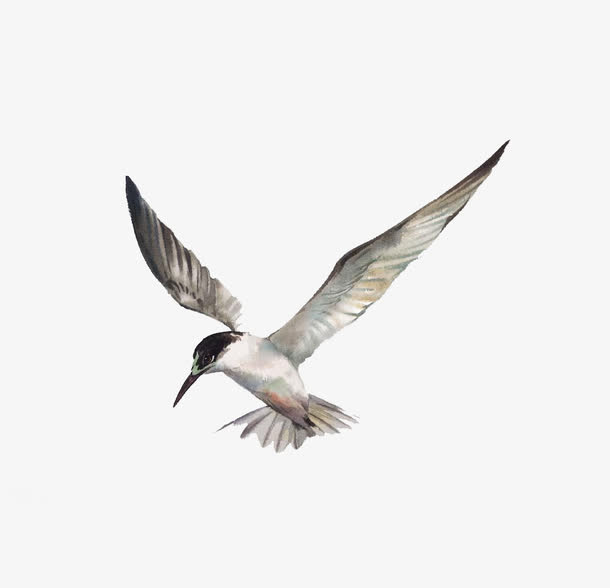bird: (114, 138, 514, 453)
